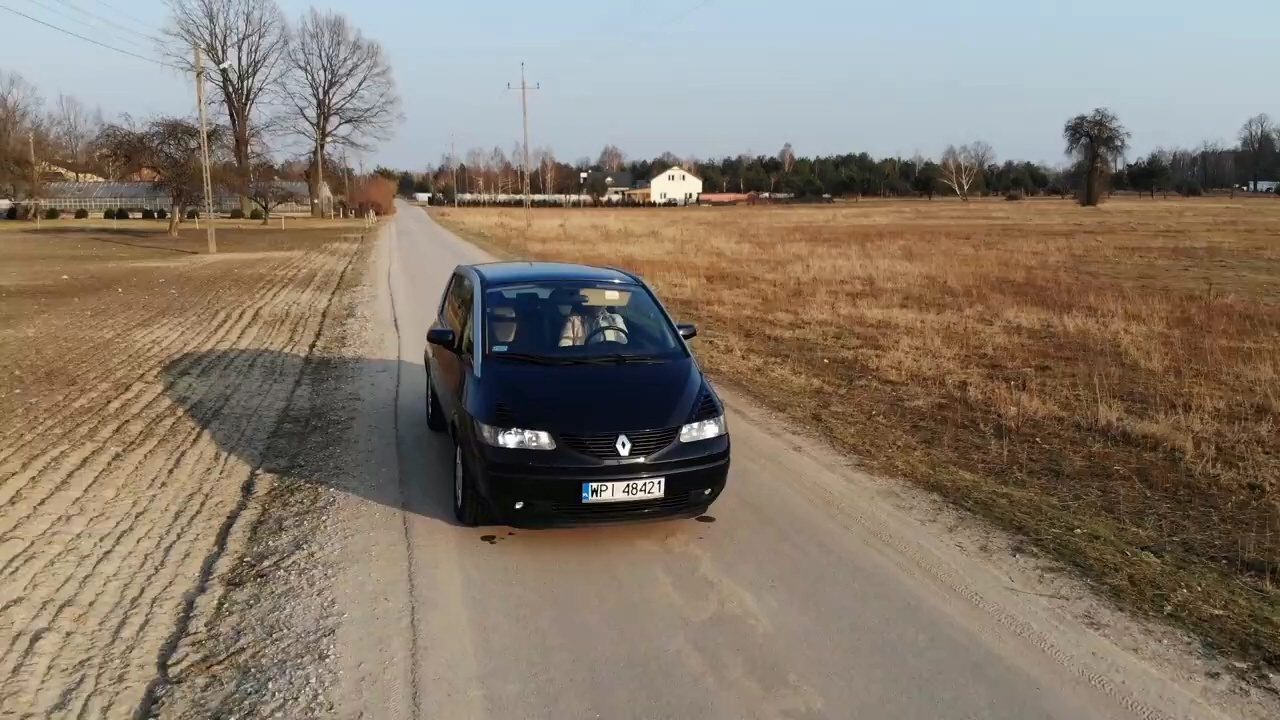araba: (421, 261, 730, 527)
